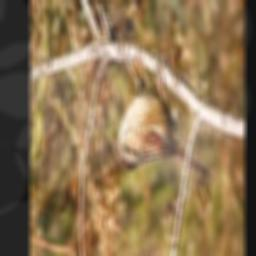Sparrow: (113, 47, 209, 177)
